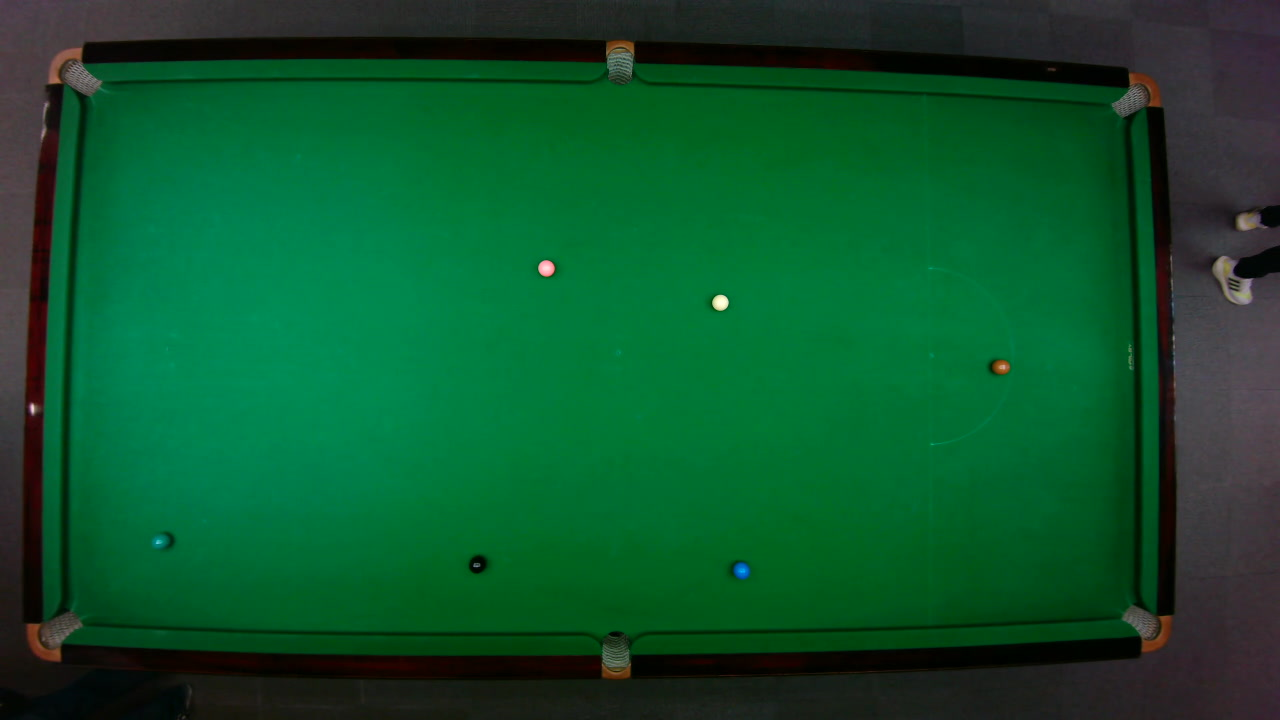bag: (25, 609, 83, 662), (45, 46, 102, 96), (1119, 603, 1171, 652), (1108, 71, 1161, 118), (600, 629, 629, 680), (605, 38, 633, 85)
black: (467, 554, 485, 573)
blue: (731, 560, 750, 579)
brown: (990, 358, 1010, 374)
green: (150, 531, 172, 550)
pink: (536, 258, 555, 277)
white: (710, 293, 729, 311)
zone: (927, 265, 1013, 445)
